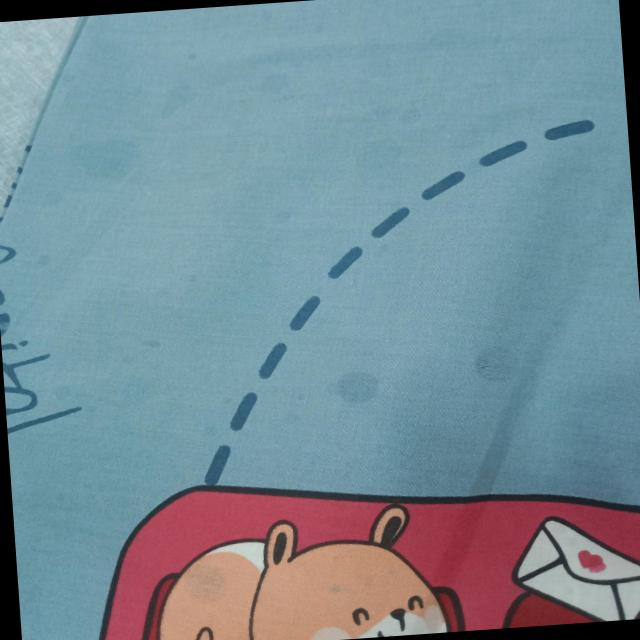stain: (460, 336, 530, 394), (325, 358, 394, 414)
